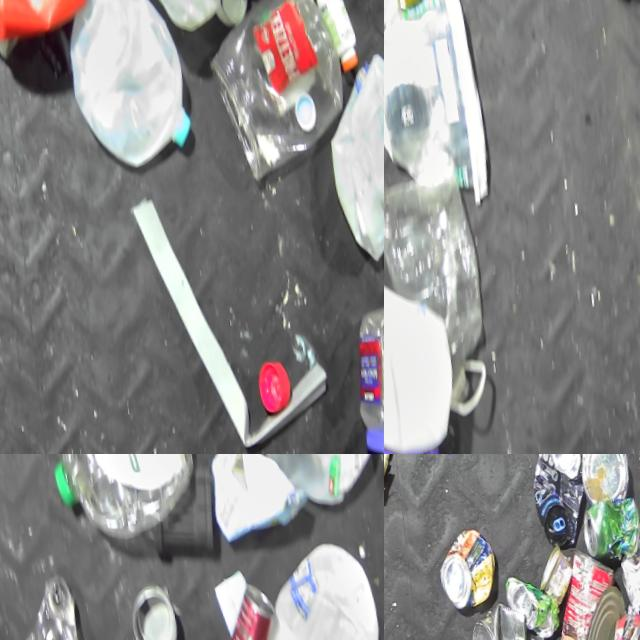can: (550, 542, 635, 640), (525, 454, 599, 548), (193, 576, 298, 640), (437, 523, 508, 612), (506, 568, 568, 640), (580, 492, 640, 563), (130, 580, 191, 640), (577, 582, 640, 640), (467, 596, 545, 640), (575, 454, 639, 503), (537, 543, 584, 607), (616, 521, 640, 613), (207, 0, 255, 29)
milk_jug: (54, 0, 205, 174), (384, 262, 474, 454), (237, 531, 384, 640), (314, 45, 384, 266), (265, 454, 384, 509), (110, 0, 230, 40)
non_white_jug: (34, 454, 213, 551), (0, 569, 109, 640), (384, 361, 461, 454), (0, 0, 115, 45)
